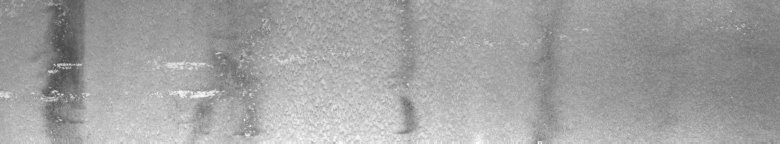hc: (4, 4, 89, 123)
